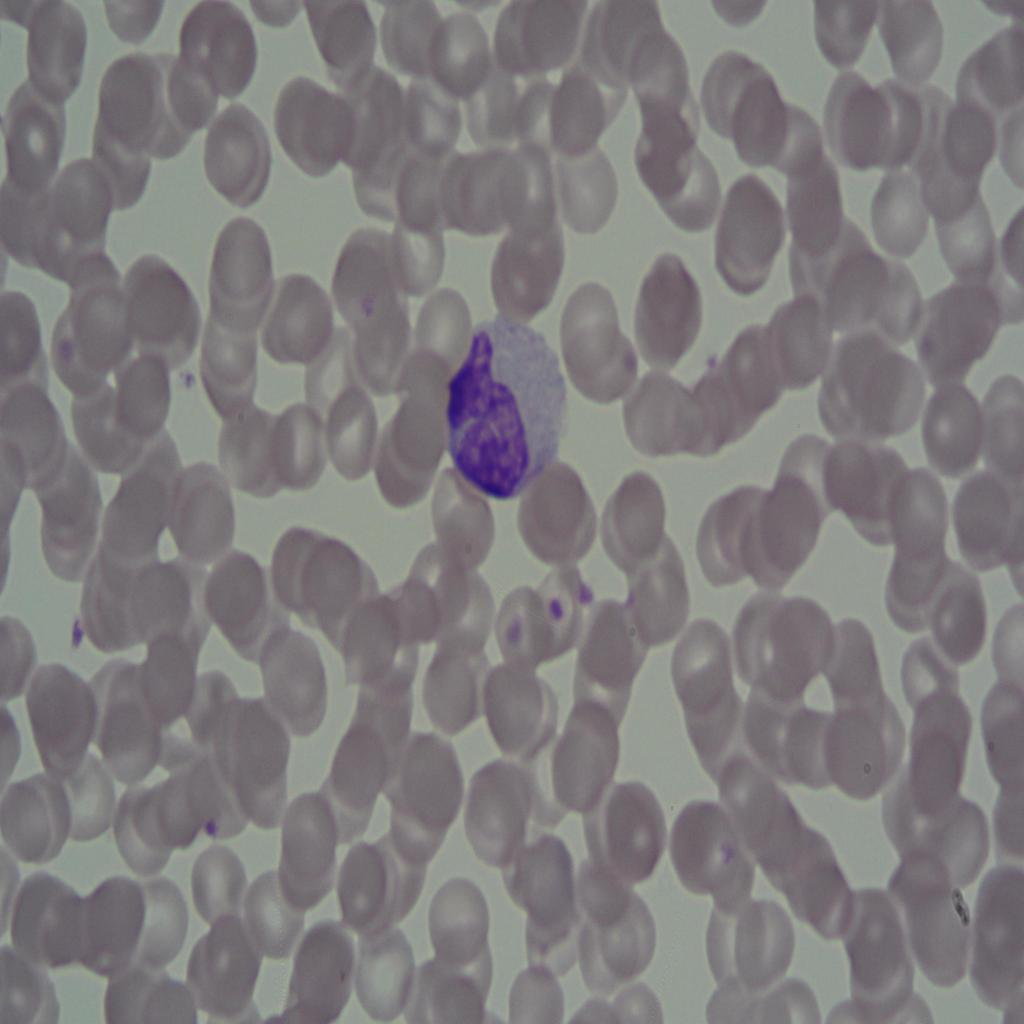Myeoblast: (449, 308, 570, 507)
Platelet: (500, 611, 532, 662), (544, 590, 569, 636), (577, 576, 599, 622), (63, 613, 88, 652), (200, 804, 222, 847)
